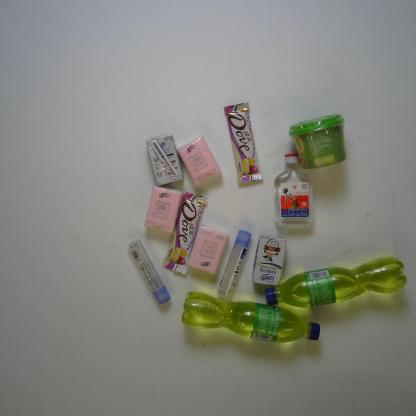Alcohol: (271, 151, 316, 229)
Chocolate: (160, 191, 208, 276), (221, 99, 264, 191)
Drink: (260, 254, 408, 311), (178, 288, 323, 345)
Instant Drink: (287, 111, 348, 174)
Milk: (250, 233, 289, 288), (146, 132, 182, 186)
Stationery: (126, 236, 172, 306), (214, 228, 253, 300)
Tissue: (176, 135, 224, 190), (185, 223, 230, 276), (144, 185, 184, 234)
